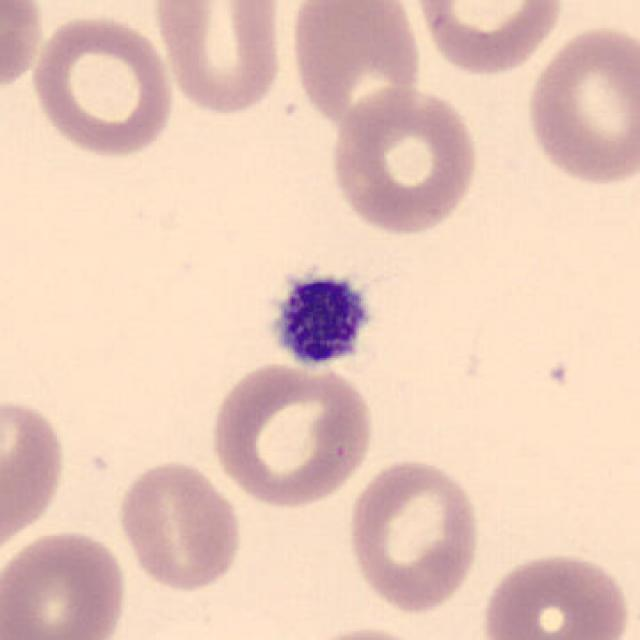Platelets: (263, 264, 379, 372)
RBC: (206, 358, 379, 511), (326, 83, 484, 238), (343, 453, 485, 617), (25, 9, 178, 160), (521, 19, 640, 190), (284, 0, 426, 136), (114, 455, 245, 594), (149, 0, 288, 118), (0, 525, 132, 640), (476, 546, 634, 640), (409, 0, 569, 79), (0, 393, 69, 555), (0, 0, 46, 97), (286, 622, 444, 640)
